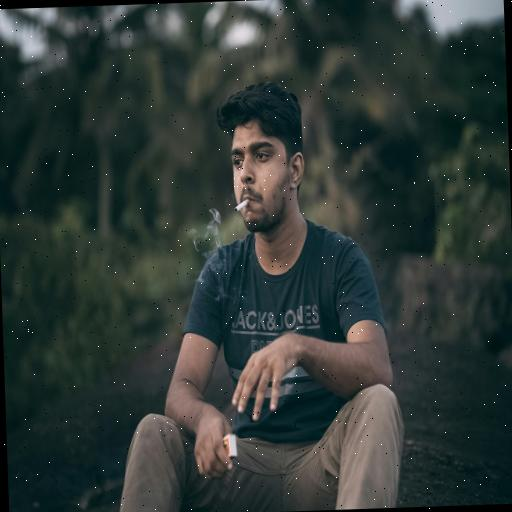terdeteksi merokok: (222, 146, 273, 238)
